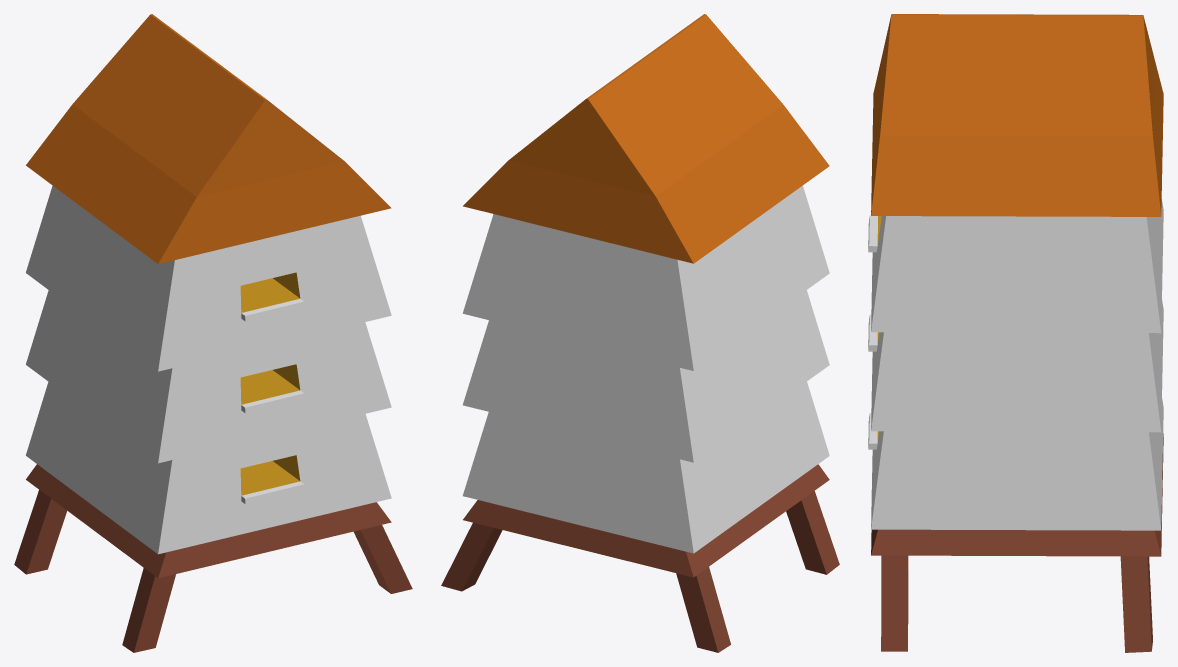
Rendered from ABEJERO FINAL.fbx.
3 renders of one model, left to right at view 1: azimuth 30°, elevation 25°; view 2: azimuth 150°, elevation 25°; view 3: azimuth 270°, elevation 25°, orthographic. The views are drawn at different scales.
Parts seen in each view (by area): view 1: Cube; view 2: Cube; view 3: Cube.
Part boxes in pixels (left/top/right/bottom): Cube: left=14, top=14, right=412, bottom=652; Cube: left=441, top=14, right=839, bottom=652; Cube: left=868, top=14, right=1163, bottom=652.
Bounding box in the file's own units: 239 × 428 × 204.
